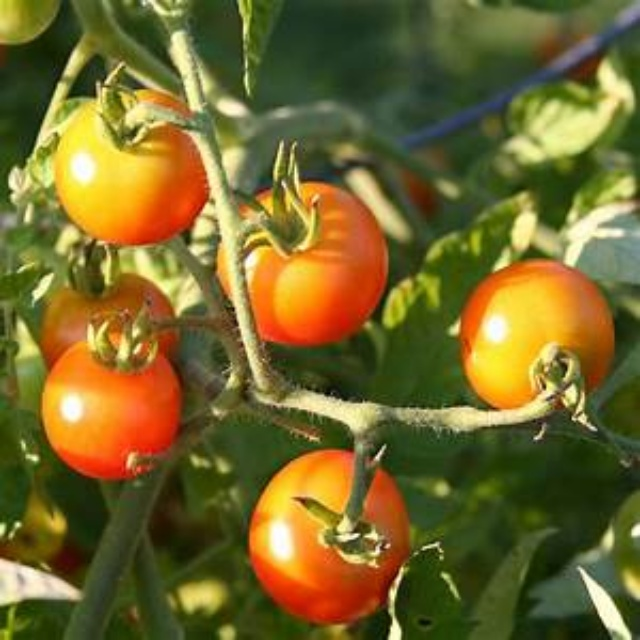tomato: (21, 276, 196, 482), (444, 264, 622, 426), (246, 460, 409, 622), (53, 91, 211, 249), (227, 185, 378, 344)
